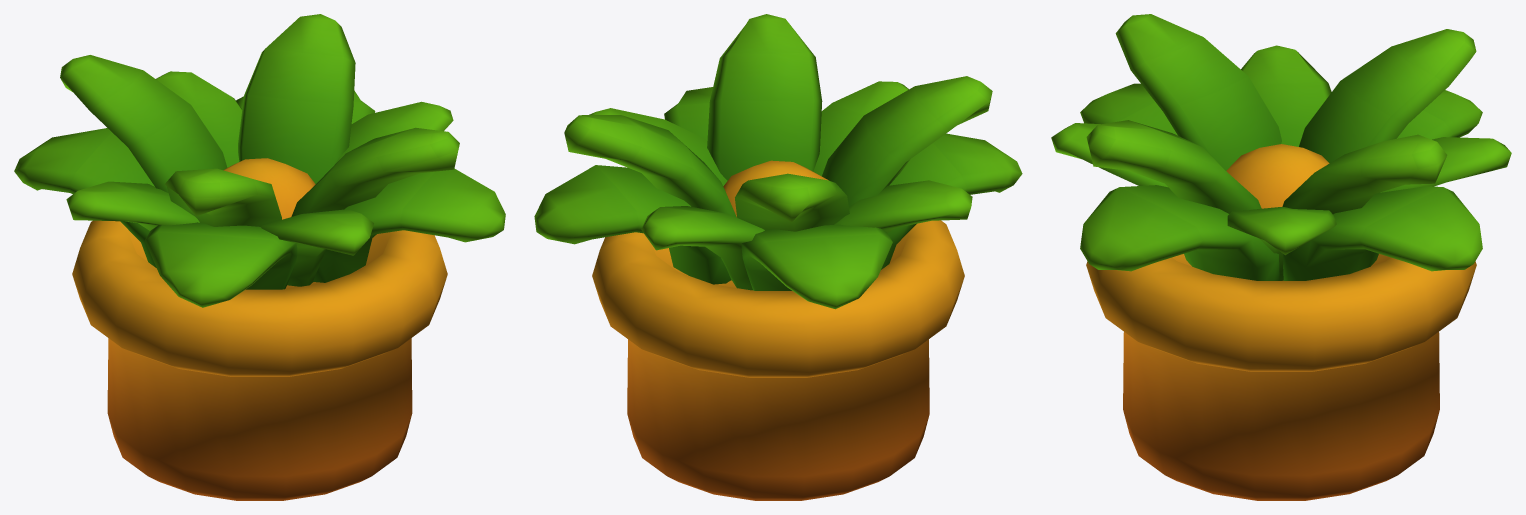
Rendered from Flower02.fbx.
3 views of the same model, side by side, from view 1: azimuth 30°, elevation 25°; view 2: azimuth 150°, elevation 25°; view 3: azimuth 270°, elevation 25° (orthographic). The views are drawn at different scales.
Visible parts, largest first — view 1: Flower02; view 2: Flower02; view 3: Flower02.
Boxes of the visible parts, <box> form: Flower02: <box>14,14,505,500</box>; Flower02: <box>534,14,1022,500</box>; Flower02: <box>1051,14,1511,500</box>.
Bounding box in the file's own units: 68.75 × 59.66 × 68.54.
